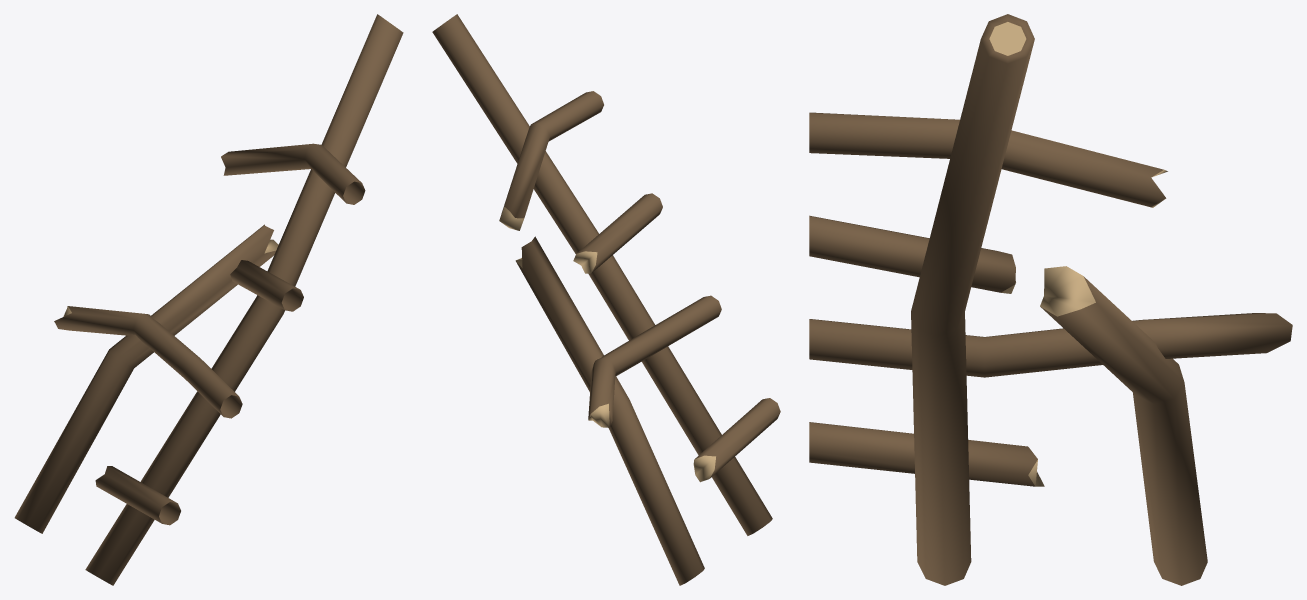
File: rpgpp_av_roof_support_01_6x5x3_half_c.fbx
The picture shows the model from 3 angles, left to right: view 1: azimuth 30°, elevation 25°; view 2: azimuth 150°, elevation 25°; view 3: azimuth 270°, elevation 25°; orthographic projection. The views are drawn at different scales.
Parts seen in each view (by area): view 1: rpgpp_av_roof_support_01_6x5x3_half_c; view 2: rpgpp_av_roof_support_01_6x5x3_half_c; view 3: rpgpp_av_roof_support_01_6x5x3_half_c.
Boxes of the visible parts, x1,y1,x2,y2 form: rpgpp_av_roof_support_01_6x5x3_half_c: [14, 14, 403, 585]; rpgpp_av_roof_support_01_6x5x3_half_c: [432, 14, 780, 585]; rpgpp_av_roof_support_01_6x5x3_half_c: [809, 14, 1292, 585].
Bounding box in the file's own units: 3.78 × 5.27 × 2.86.
